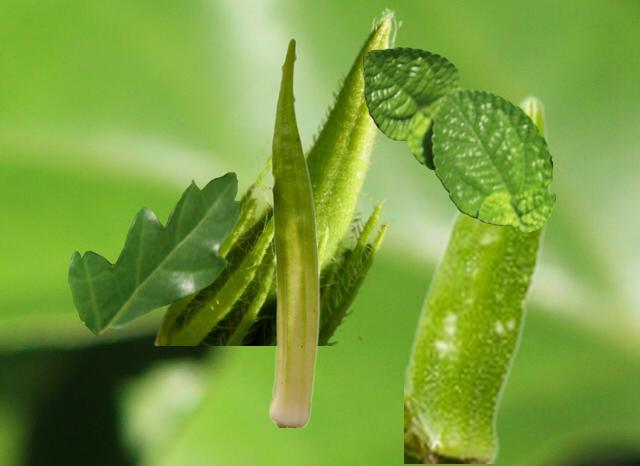okra: (150, 6, 402, 344), (404, 92, 551, 462), (269, 37, 319, 426)
